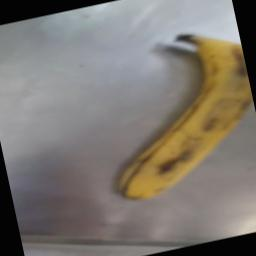Banana Overripe: (90, 9, 256, 209)
